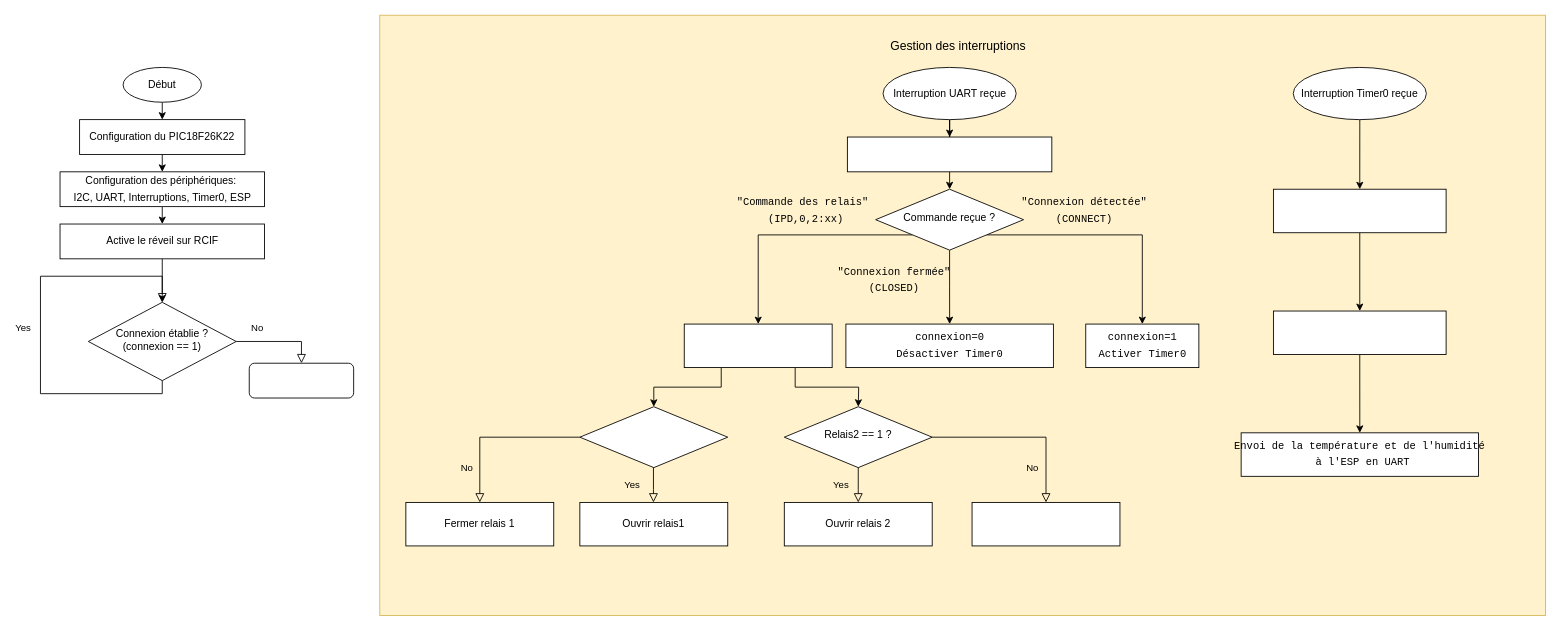
The diagram is 1561 pixels wide and 638 high, and some of its shapes have lost their labels. The shapes that lost their labels are listed below. From the top down, each one's centre as x and y in pixels, then its label:
the point at 949,154: Lire les données reçues
the point at 1359,210: Mesure I2C Température + humidité
the point at 757,345: Mettre à jour état des variables relais
the point at 1359,332: Formater les données pour l'envoi
the point at 301,380: SLEEP (PIC en veille)
the point at 653,437: Relais1 == 1 ?
the point at 1045,524: Fermer relais 2
